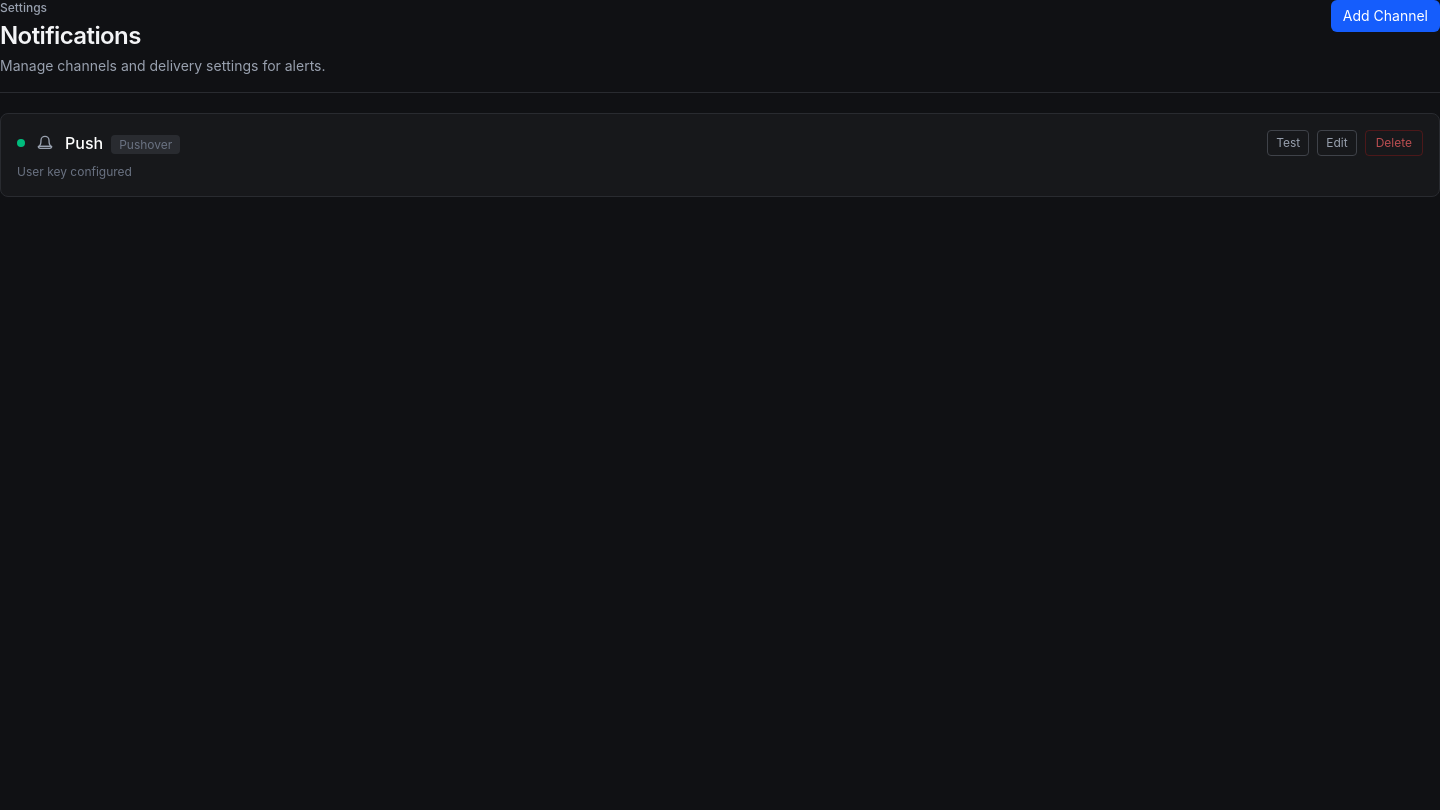
Test: [HARDEN-002][AC-037] editor shows "configured" and sends new values › [HARDEN-002][AC-037] the webhook URL, discord/slack URL and pushover keys also use the configured state
Click the button "Edit" at (1337, 143), box [1317,130,1357,156]
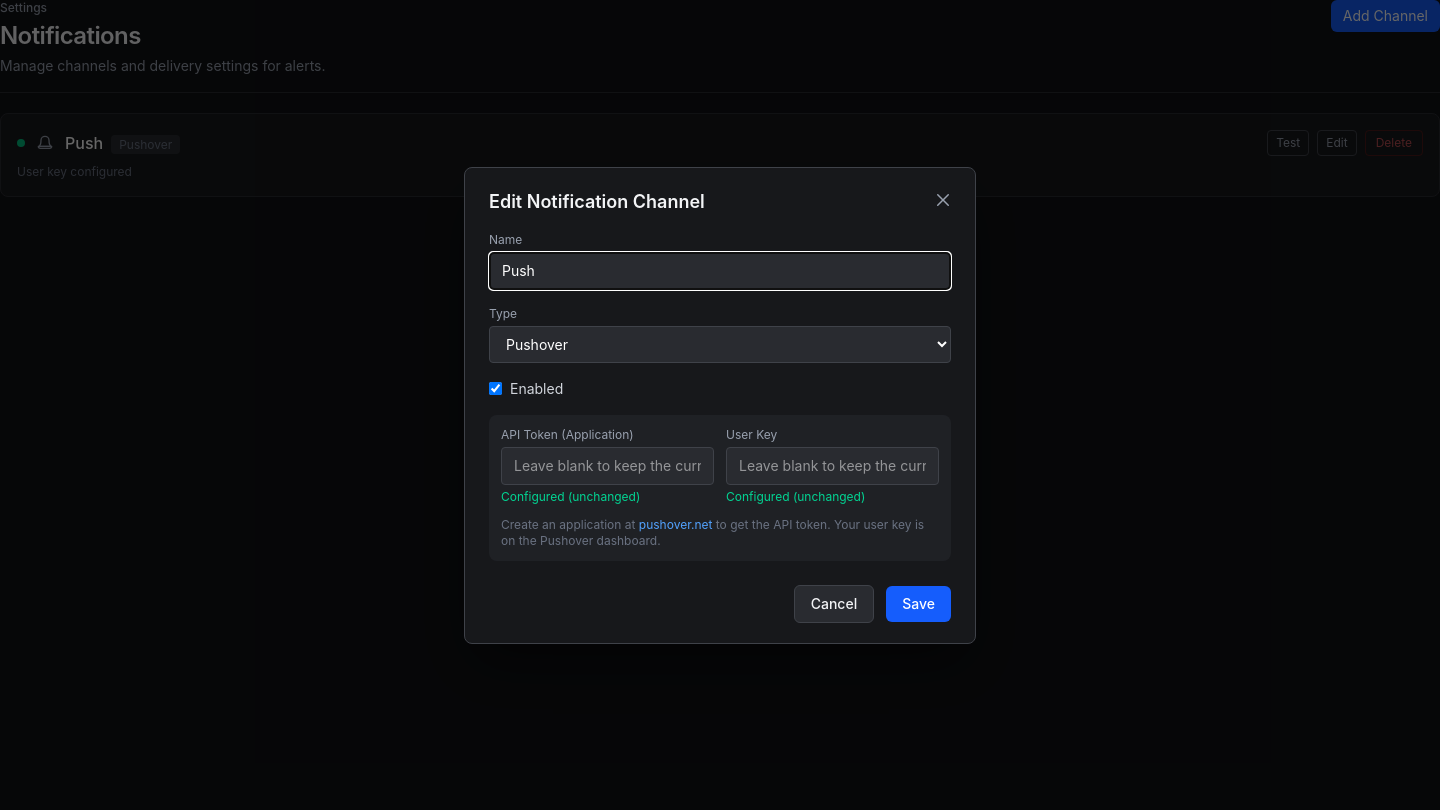
Now the text "Configured (unchanged)" is shown 2 times, box [501,488,640,504]; [726,488,865,504]
